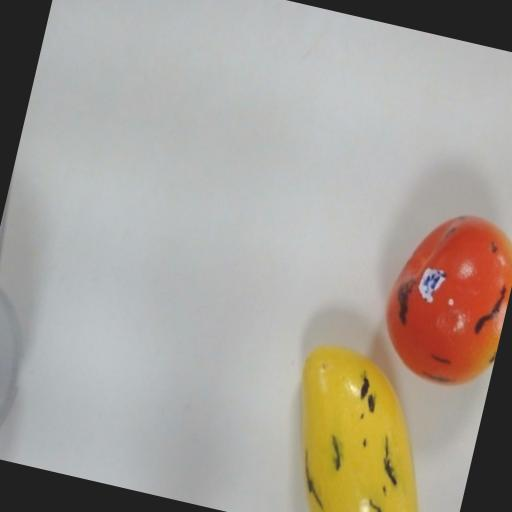Defective: (256, 327, 462, 512), (367, 190, 512, 395)
